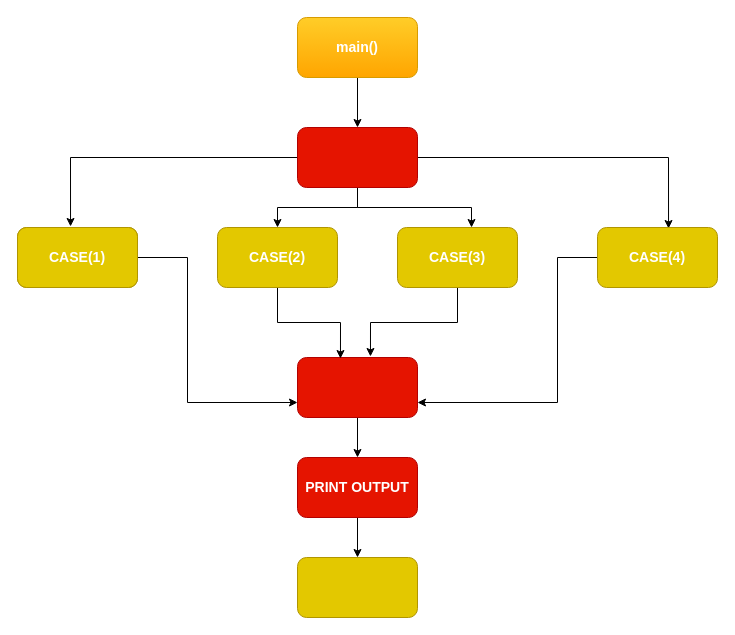
This 735x635 diagram has some shape labels left out. Here are the shapes that lost their labels. From the top down, the box of each, then its label:
(296, 126, 418, 188): Switch(case)
(296, 356, 418, 418): USER INPUT
(296, 556, 418, 618): EXIT()
